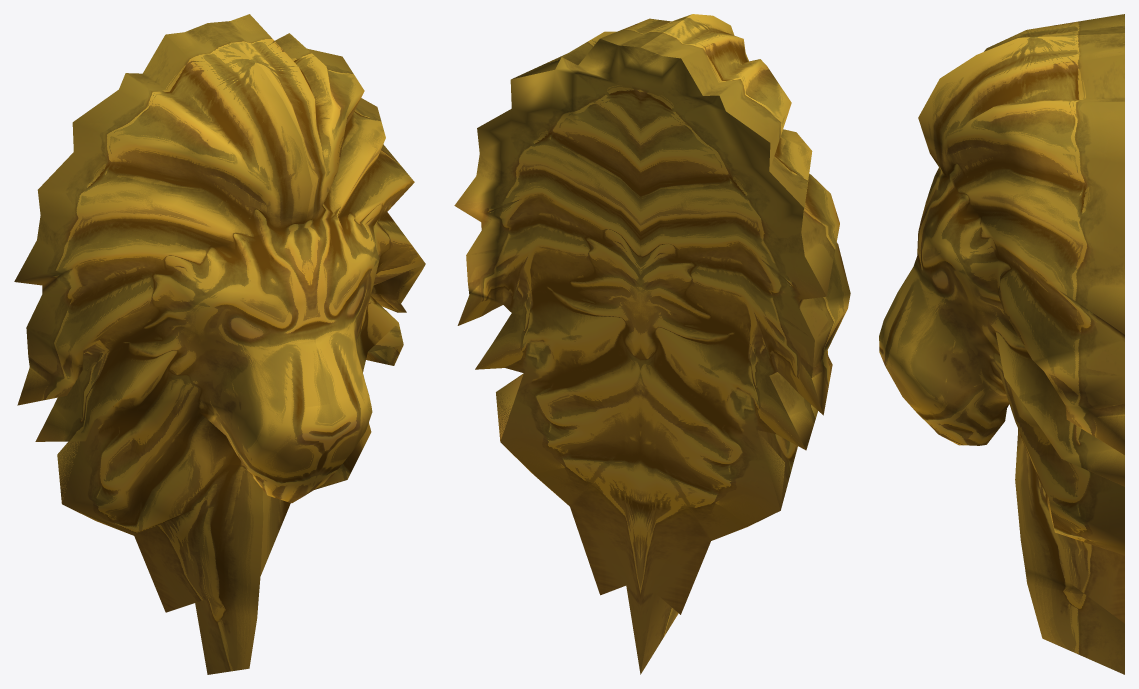
The model's file is Gold Lion.obj.
The picture shows the model from 3 angles, left to right: view 1: azimuth 30°, elevation 25°; view 2: azimuth 150°, elevation 25°; view 3: azimuth 270°, elevation 25°; orthographic projection. The views are drawn at different scales.
Parts seen in each view (by area): view 1: Lion_Low_Poly; view 2: Lion_Low_Poly; view 3: Lion_Low_Poly.
Part boxes in pixels (box(x1,y1,x2,y2)): Lion_Low_Poly: box(14, 14, 425, 674); Lion_Low_Poly: box(454, 14, 850, 674); Lion_Low_Poly: box(879, 14, 1124, 674).
Size of the model in its own units: 3.91 by 6.29 by 2.18.
Materials: 1 (1 with a texture image).
